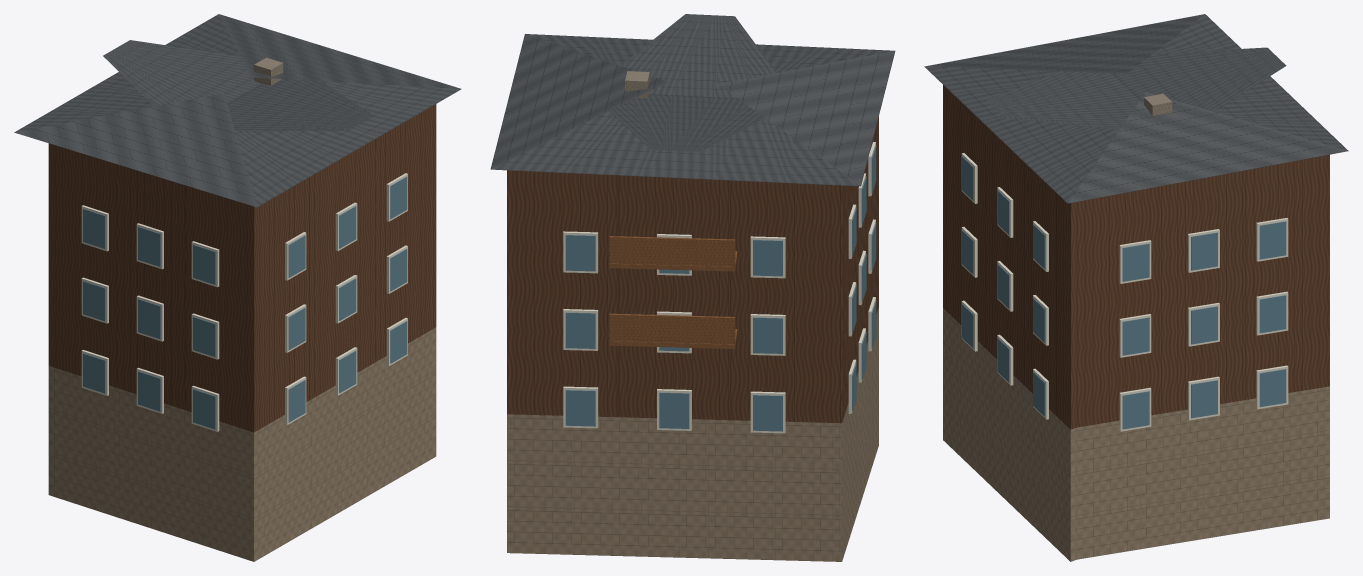
The model's file is core_0071.gltf.
3 views of the same model, side by side, from view 1: azimuth 30°, elevation 25°; view 2: azimuth 150°, elevation 25°; view 3: azimuth 270°, elevation 25° (orthographic). The views are drawn at different scales.
Parts seen in each view (by area): view 1: core_0071; view 2: core_0071; view 3: core_0071.
Part boxes in pixels (x1,y1,x2,y2): core_0071: [14, 14, 461, 561]; core_0071: [490, 14, 895, 561]; core_0071: [924, 14, 1348, 561].
Bounding box in the file's own units: 15.7 × 15.45 × 14.86.
Materials: 7 (7 with a texture image).
